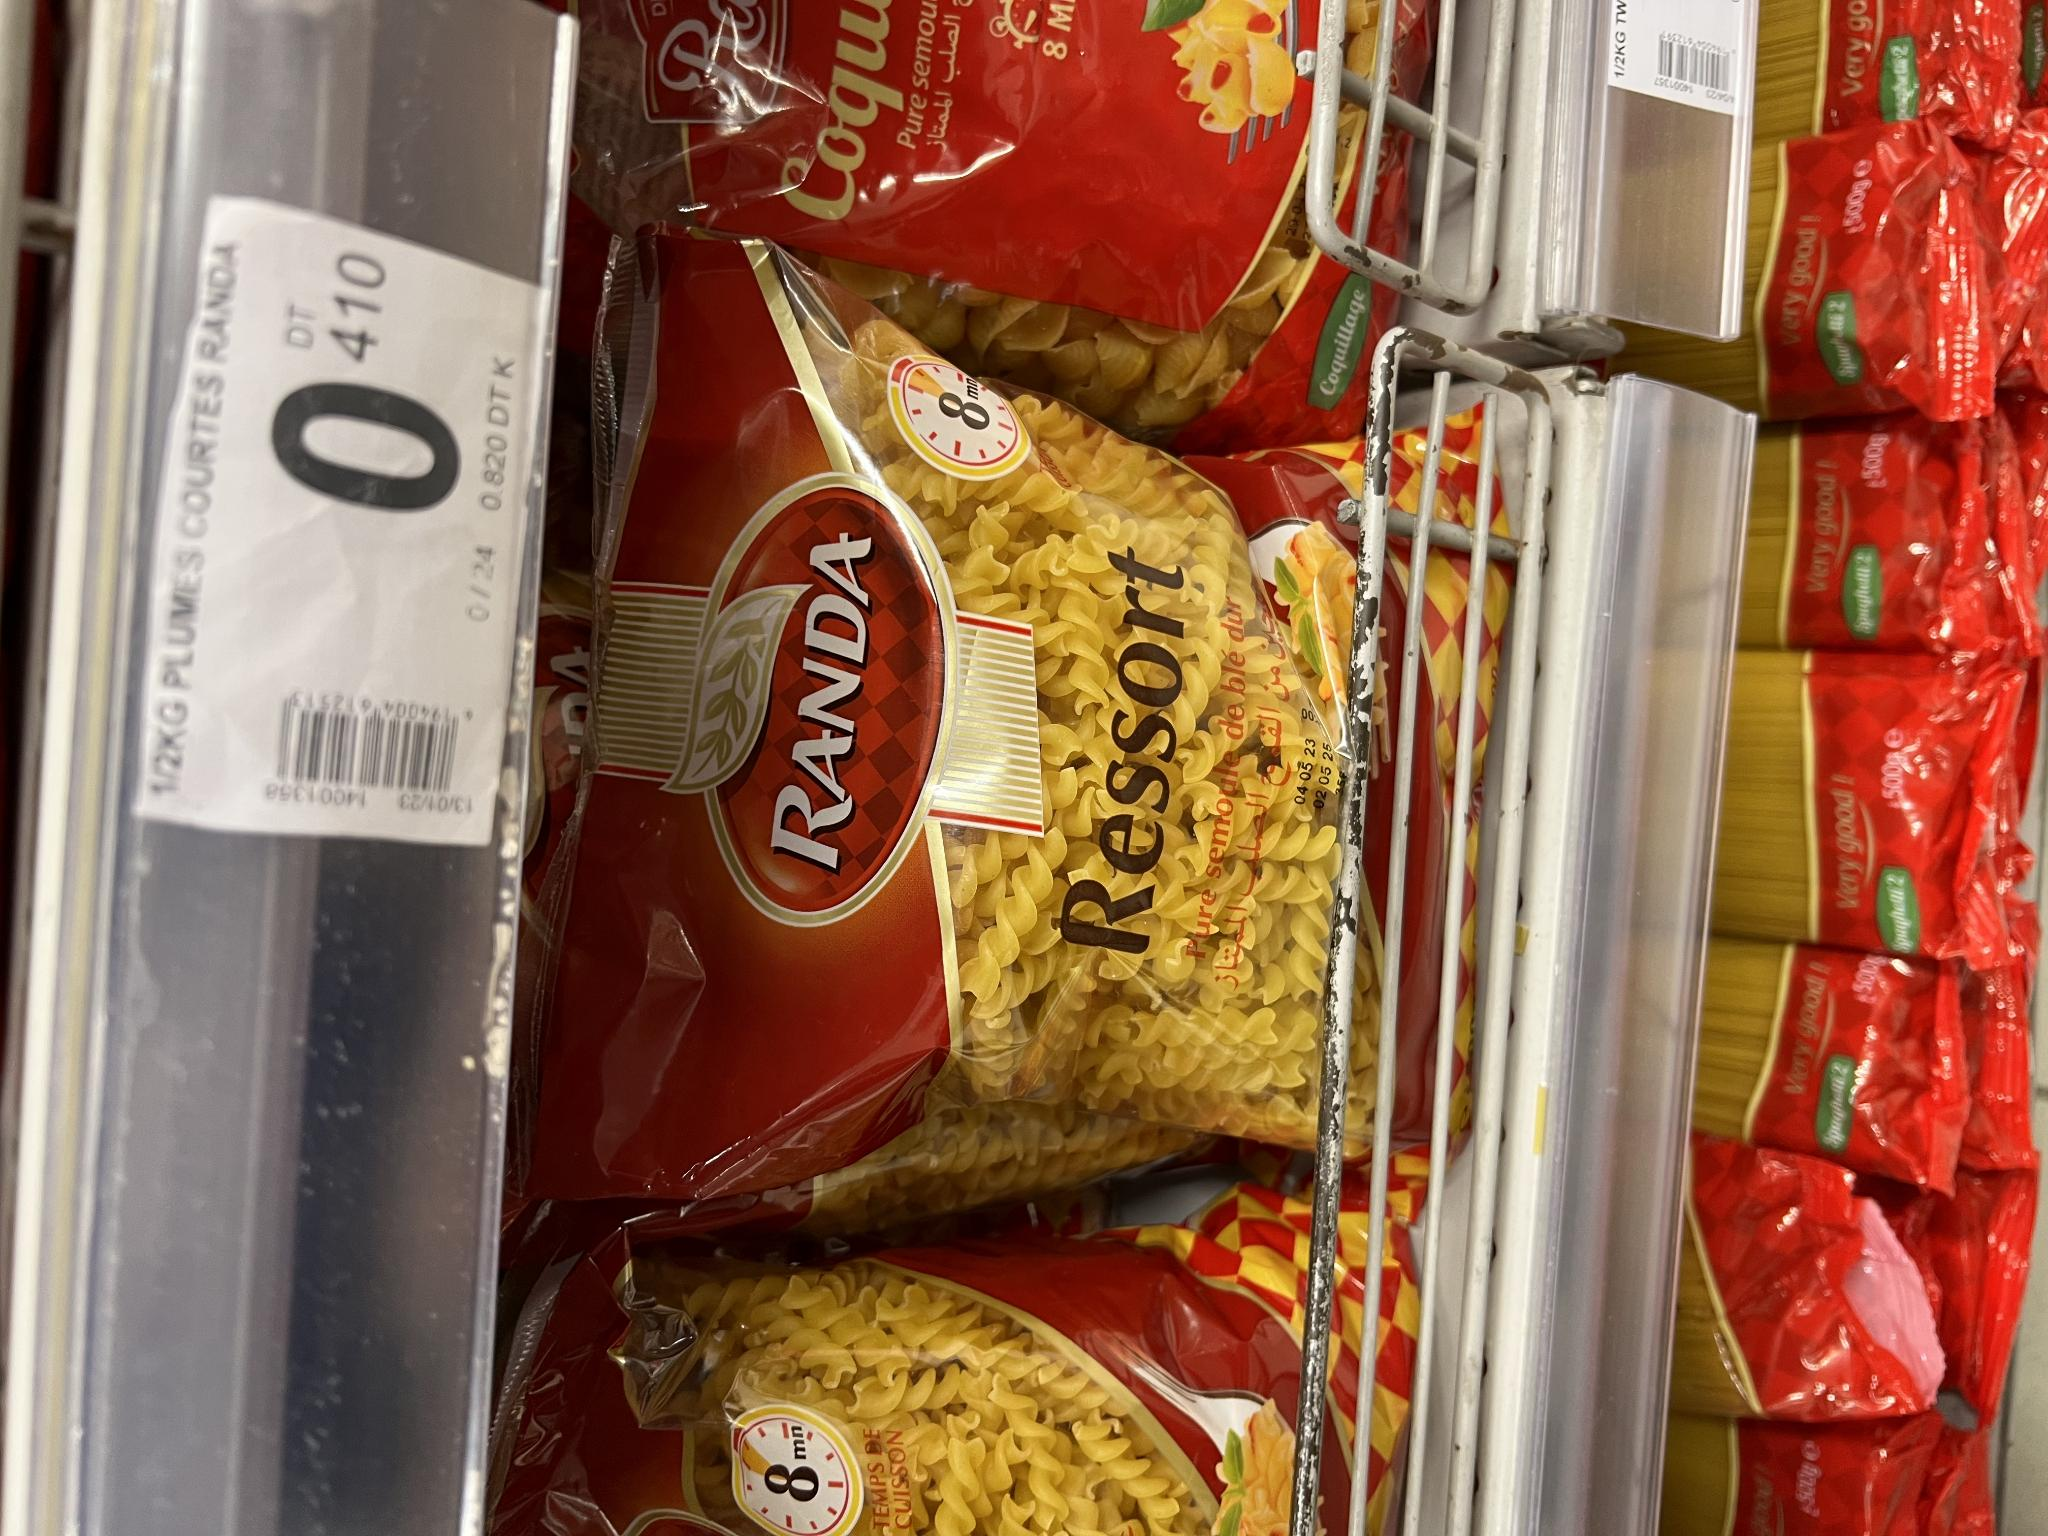Ressort: (513, 215, 1505, 1205), (505, 1223, 1459, 1536)
